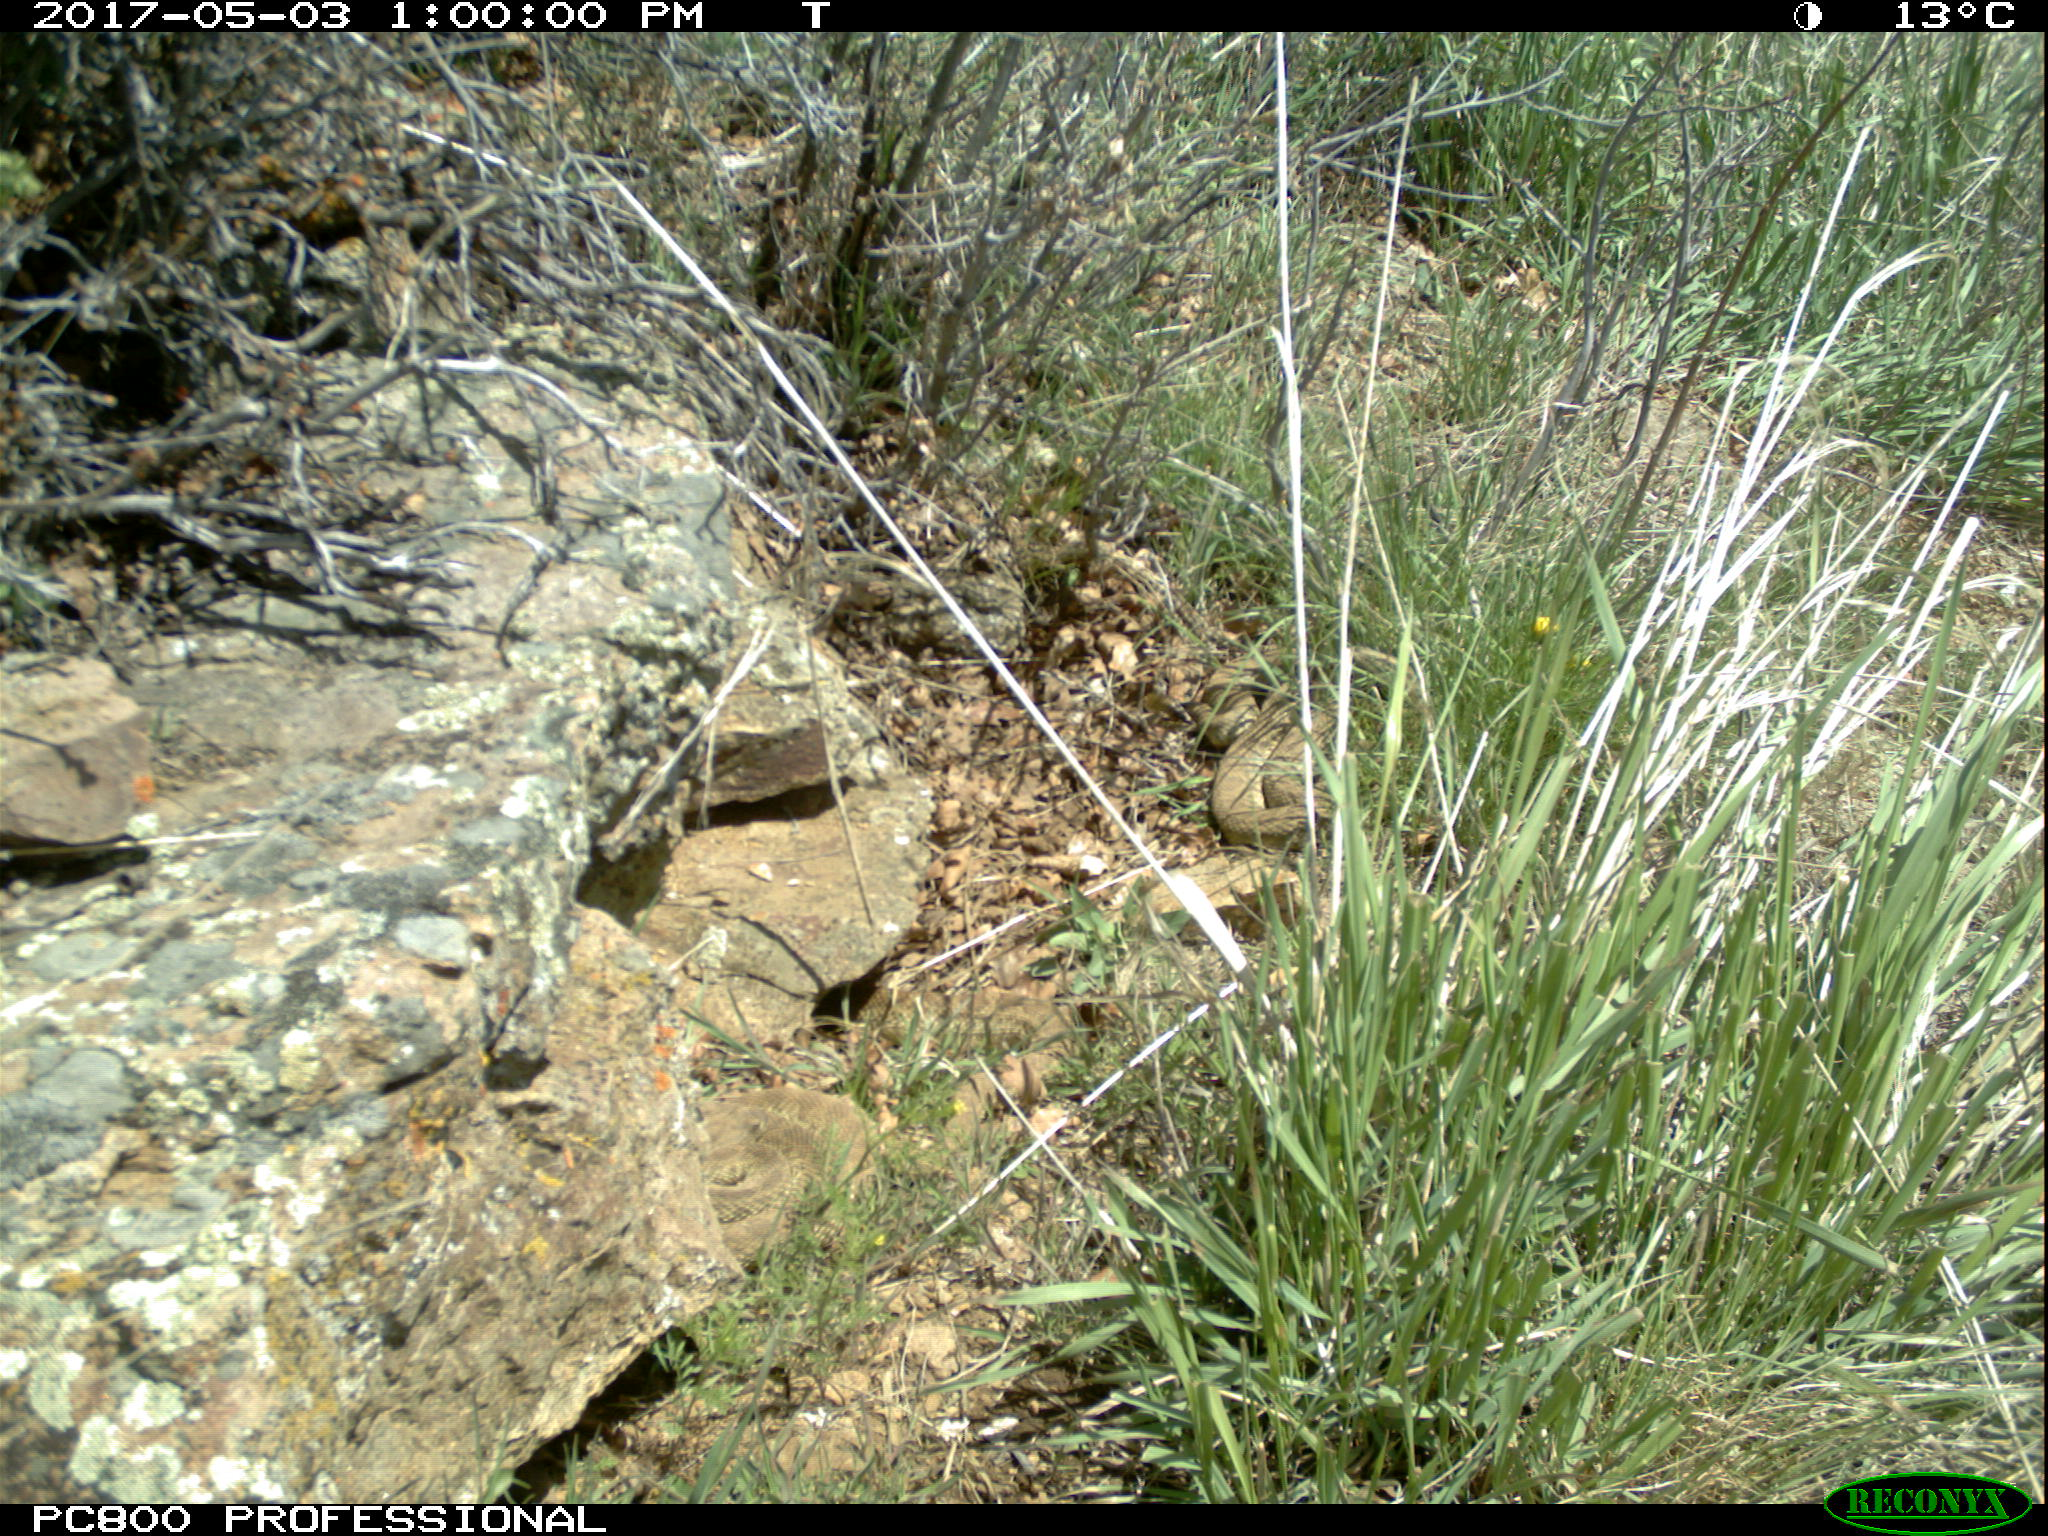snake: (687, 1081, 898, 1262), (1184, 650, 1353, 850)
